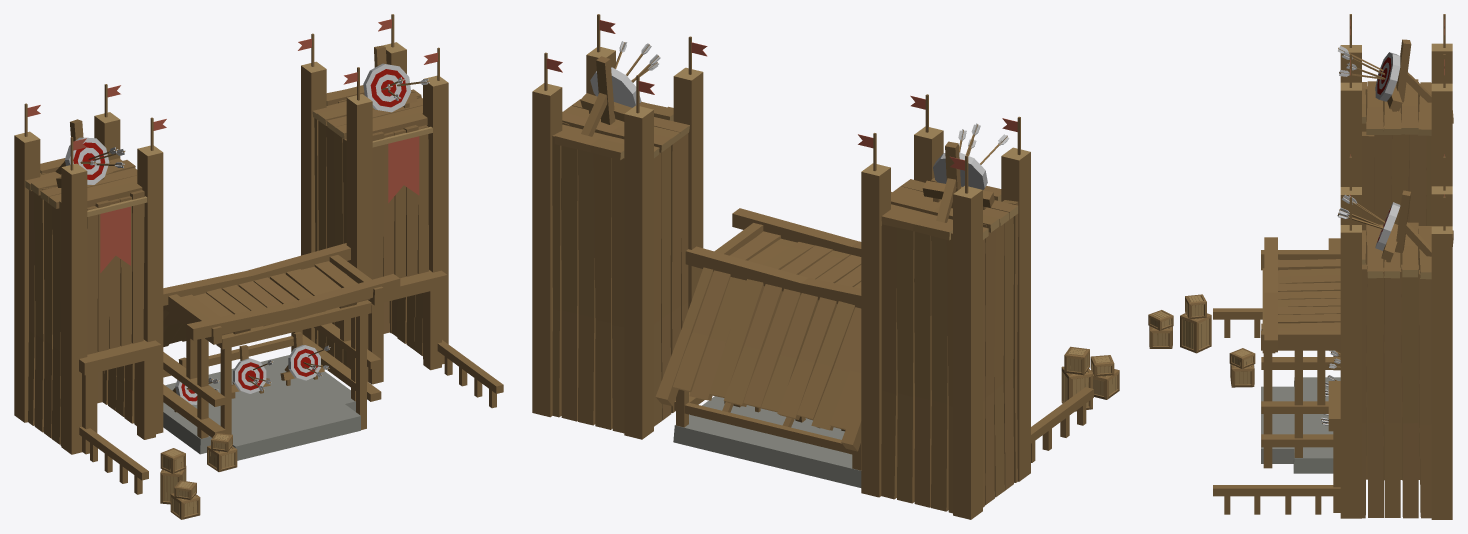
File: Archery Towers.glb
3 views of the same model, side by side, from view 1: azimuth 30°, elevation 25°; view 2: azimuth 150°, elevation 25°; view 3: azimuth 270°, elevation 25° (orthographic). The views are drawn at different scales.
Visible parts, largest first — view 1: Archery_FirstAge_Level3; view 2: Archery_FirstAge_Level3; view 3: Archery_FirstAge_Level3.
Part boxes in pixels (bbox=[...]): Archery_FirstAge_Level3: bbox=[14, 14, 503, 519]; Archery_FirstAge_Level3: bbox=[532, 14, 1119, 519]; Archery_FirstAge_Level3: bbox=[1148, 14, 1453, 519].
Size of the model in its own units: 1.88 by 1.5 by 1.27.
